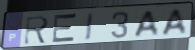3: (110, 10, 131, 41)
A: (160, 7, 189, 37), (132, 9, 161, 39)
E: (51, 12, 79, 45)
I: (84, 11, 95, 43)
R: (23, 14, 51, 46)
